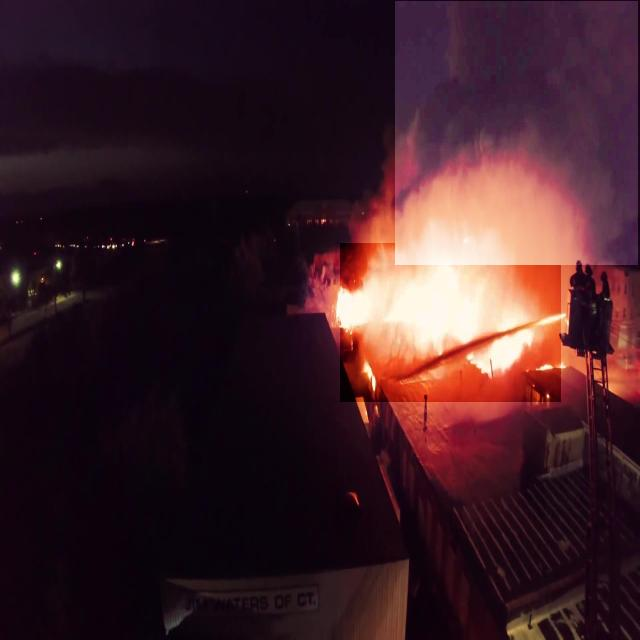Fire: (340, 243, 561, 402)
Smoke: (395, 2, 638, 266)
